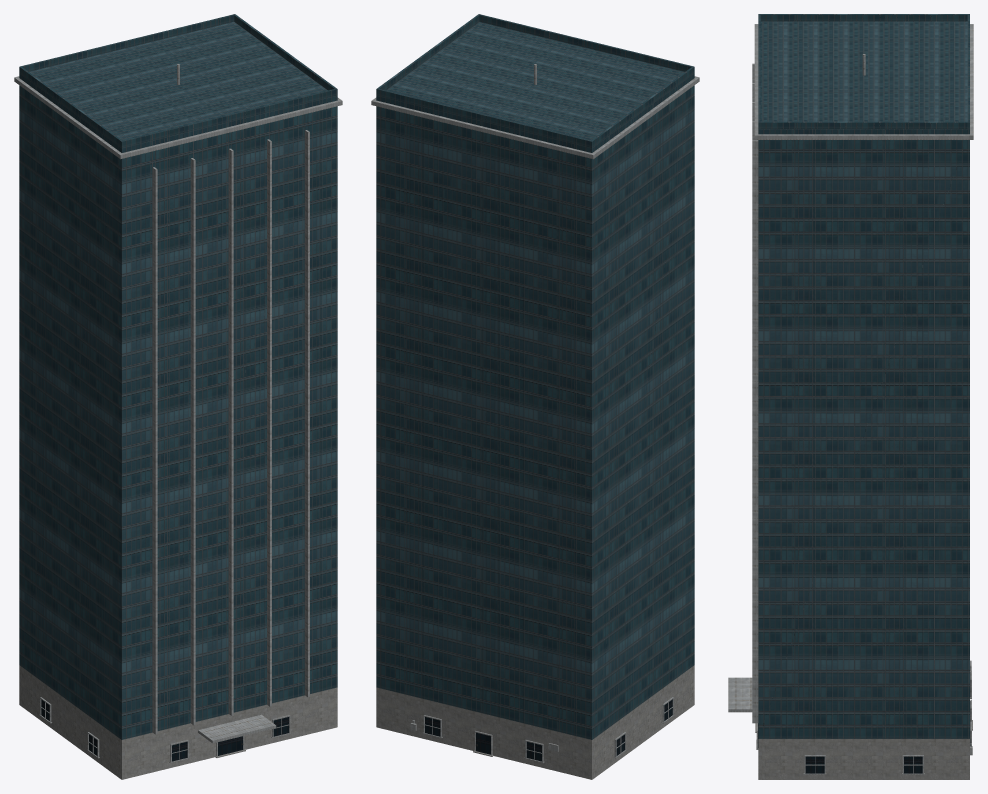
Rendered from griswold-exchange_lod0.gltf.
The picture shows the model from 3 angles, left to right: view 1: azimuth 30°, elevation 25°; view 2: azimuth 150°, elevation 25°; view 3: azimuth 270°, elevation 25°; orthographic projection. The views are drawn at different scales.
Visible parts, largest first — view 1: griswold-exchange_upper, griswold-exchange_base, griswold-exchange__fin_a, griswold-exchange__fin_b, griswold-exchange__fin_c, griswold-exchange__fin_d, griswold-exchange__fin_e, griswold-exchange__cornice, griswold-exchange__parapet_front, griswold-exchange__parapet_back, griswold-exchange__canopy, griswold-exchange_fen_07-glass-curtain-blue_1_t (+3 smaller); view 2: griswold-exchange_upper, griswold-exchange_base, griswold-exchange__cornice, griswold-exchange__parapet_back, griswold-exchange__parapet_front, griswold-exchange_fen_07-glass-curtain-blue_1_t, griswold-exchange_fen_14-steel-panel_0, griswold-exchange__parapet_left, griswold-exchange__parapet_right; view 3: griswold-exchange_upper, griswold-exchange_base, griswold-exchange__fin_e, griswold-exchange__cornice, griswold-exchange__parapet_right, griswold-exchange__parapet_left, griswold-exchange__canopy, griswold-exchange_fen_07-glass-curtain-blue_1_t, griswold-exchange_fen_14-steel-panel_0.
Part boxes in pixels (left/top/right/bottom): griswold-exchange_upper: left=19, top=22, right=337, bottom=739; griswold-exchange_base: left=19, top=665, right=337, bottom=779; griswold-exchange__fin_a: left=152, top=167, right=157, bottom=734; griswold-exchange__fin_b: left=190, top=158, right=195, bottom=725; griswold-exchange__fin_c: left=229, top=148, right=233, bottom=715; griswold-exchange__fin_d: left=267, top=139, right=271, bottom=706; griswold-exchange__fin_e: left=305, top=130, right=309, bottom=697; griswold-exchange__cornice: left=14, top=76, right=342, bottom=159; griswold-exchange__parapet_front: left=120, top=88, right=337, bottom=148; griswold-exchange__parapet_back: left=19, top=14, right=235, bottom=73; griswold-exchange__canopy: left=198, top=714, right=276, bottom=743; griswold-exchange_fen_07-glass-curtain-blue_1_t: left=41, top=699, right=288, bottom=761; griswold-exchange_upper: left=376, top=22, right=694, bottom=739; griswold-exchange_base: left=376, top=665, right=694, bottom=779; griswold-exchange__cornice: left=371, top=76, right=699, bottom=159; griswold-exchange__parapet_back: left=376, top=88, right=593, bottom=148; griswold-exchange__parapet_front: left=478, top=14, right=694, bottom=73; griswold-exchange_fen_07-glass-curtain-blue_1_t: left=425, top=699, right=672, bottom=761; griswold-exchange_fen_14-steel-panel_0: left=410, top=697, right=674, bottom=763; griswold-exchange__parapet_left: left=591, top=67, right=693, bottom=147; griswold-exchange__parapet_right: left=378, top=15, right=479, bottom=90; griswold-exchange_upper: left=758, top=21, right=969, bottom=738; griswold-exchange_base: left=758, top=739, right=969, bottom=779; griswold-exchange__fin_e: left=752, top=140, right=758, bottom=723; griswold-exchange__cornice: left=754, top=24, right=973, bottom=139; griswold-exchange__parapet_right: left=760, top=121, right=967, bottom=129; griswold-exchange__parapet_left: left=760, top=14, right=967, bottom=21; griswold-exchange__canopy: left=728, top=677, right=752, bottom=712; griswold-exchange_fen_07-glass-curtain-blue_1_t: left=758, top=672, right=970, bottom=773; griswold-exchange_fen_14-steel-panel_0: left=756, top=660, right=972, bottom=774.
Bounding box in the file's own units: 35 × 98 × 32.5.
